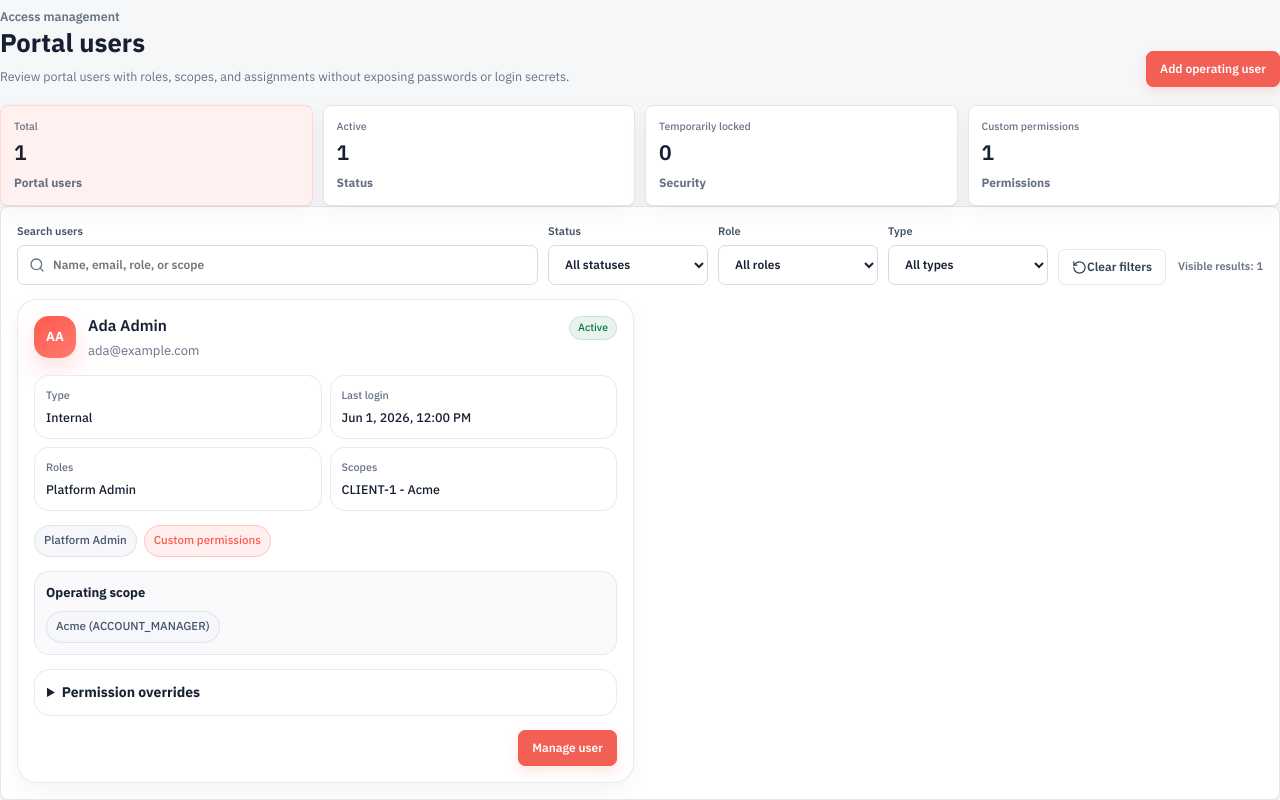
it: Admin access pages › renders portal users as access cards with roles and overrides
expect the number of headings "Portal users" is 1: met, box [0,24,145,63]
expect the button "Add operating user" is shown: met, box [1146,51,1279,87]
Step 1. Click the button "Manage user" → (568, 748), box [518,730,617,766]
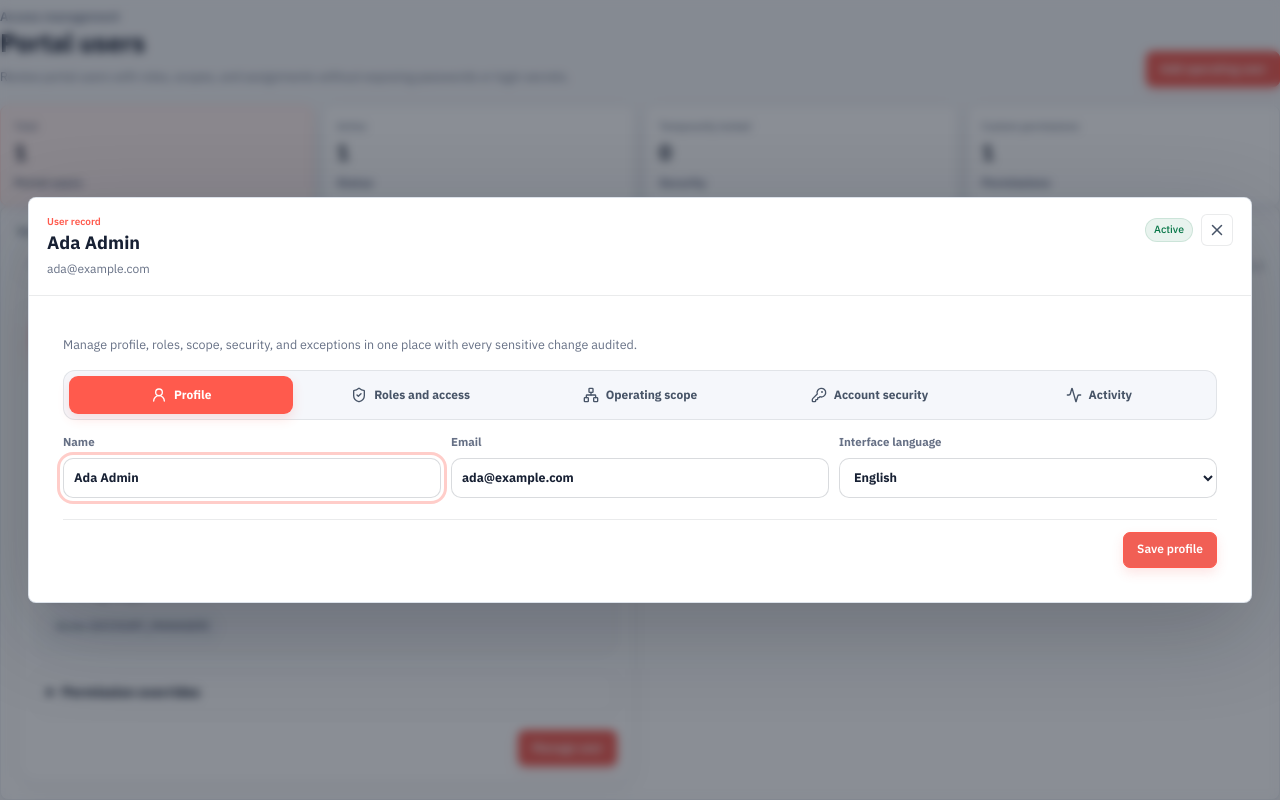
expect the dialog "Ada Admin" is shown: met, box [28,197,1252,603]
expect the element named "User record" is shown: met, box [47,314,1233,584]
expect the button "Profile" is shown: met, box [69,376,293,414]
